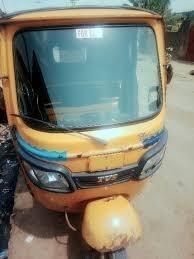keke: (1, 7, 178, 259)
